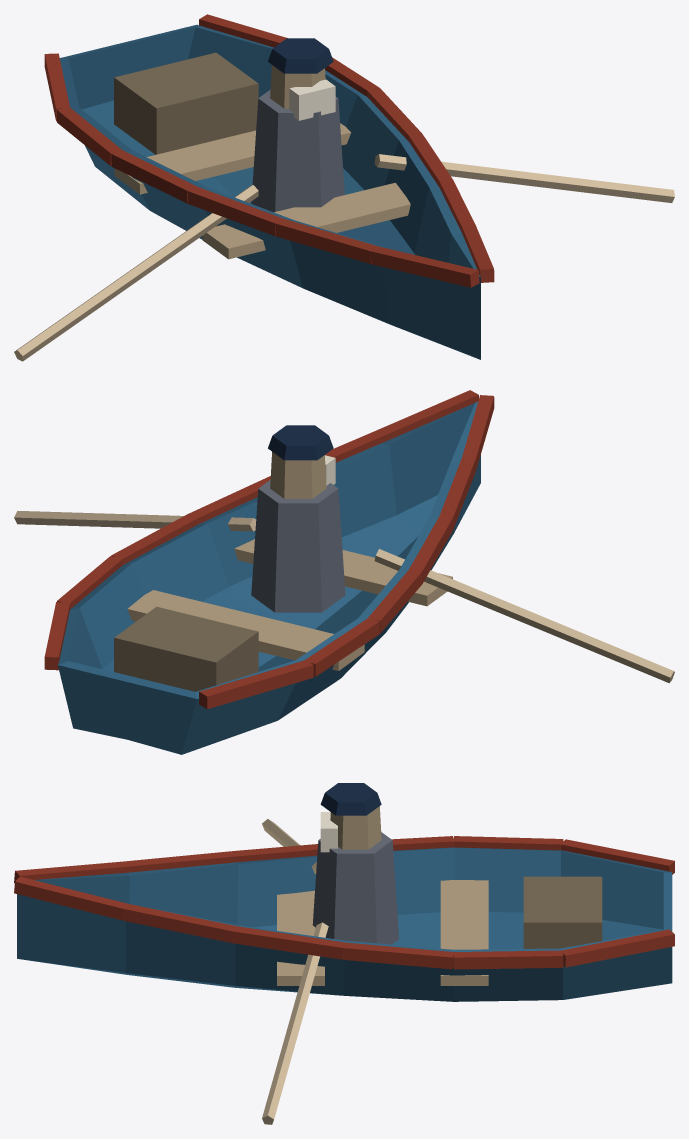
Rendered from rowboat_out.glb.
The picture shows the model from 3 angles, top to bottom: view 1: azimuth 30°, elevation 25°; view 2: azimuth 150°, elevation 25°; view 3: azimuth 270°, elevation 25°; orthographic projection. The views are drawn at different scales.
Parts seen in each view (by area): view 1: tide_d20, coal_d20, driftwood_d40, driftwood_d10, slate_d5, driftwood_l10, abyss_d25, bone, driftwood_d12; view 2: tide_d20, coal_d20, slate_d5, driftwood_d40, driftwood_d10, driftwood_l10, driftwood_d12, abyss_d25; view 3: tide_d20, coal_d20, slate_d5, driftwood_d10, driftwood_d40, driftwood_l10, abyss_d25, driftwood_d12, bone.
Part boxes in pixels (x1=…): tide_d20: x1=59, y1=24, x2=480, y2=359; coal_d20: x1=44, y1=14, x2=494, y2=287; driftwood_d40: x1=114, y1=52, x2=258, y2=154; driftwood_d10: x1=114, y1=123, x2=410, y2=259; slate_d5: x1=251, y1=89, x2=344, y2=212; driftwood_l10: x1=14, y1=154, x2=674, y2=361; abyss_d25: x1=268, y1=38, x2=333, y2=73; bone: x1=289, y1=79, x2=335, y2=120; driftwood_d12: x1=270, y1=65, x2=325, y2=108; tide_d20: x1=58, y1=401, x2=480, y2=754; coal_d20: x1=44, y1=390, x2=494, y2=709; slate_d5: x1=251, y1=480, x2=345, y2=612; driftwood_d40: x1=114, y1=606, x2=258, y2=691; driftwood_d10: x1=127, y1=539, x2=452, y2=670; driftwood_l10: x1=14, y1=510, x2=674, y2=683; driftwood_d12: x1=270, y1=452, x2=326, y2=498; abyss_d25: x1=268, y1=425, x2=333, y2=460; tide_d20: x1=17, y1=847, x2=672, y2=1001; coal_d20: x1=14, y1=836, x2=674, y2=969; slate_d5: x1=312, y1=832, x2=398, y2=944; driftwood_d10: x1=277, y1=880, x2=488, y2=985; driftwood_d40: x1=523, y1=876, x2=602, y2=948; driftwood_l10: x1=262, y1=819, x2=328, y2=1124; abyss_d25: x1=320, y1=783, x2=381, y2=815; driftwood_d12: x1=330, y1=806, x2=381, y2=849; bone: x1=320, y1=812, x2=337, y2=852.
Size of the model in its own units: 3.22 by 1.01 by 3.03.
